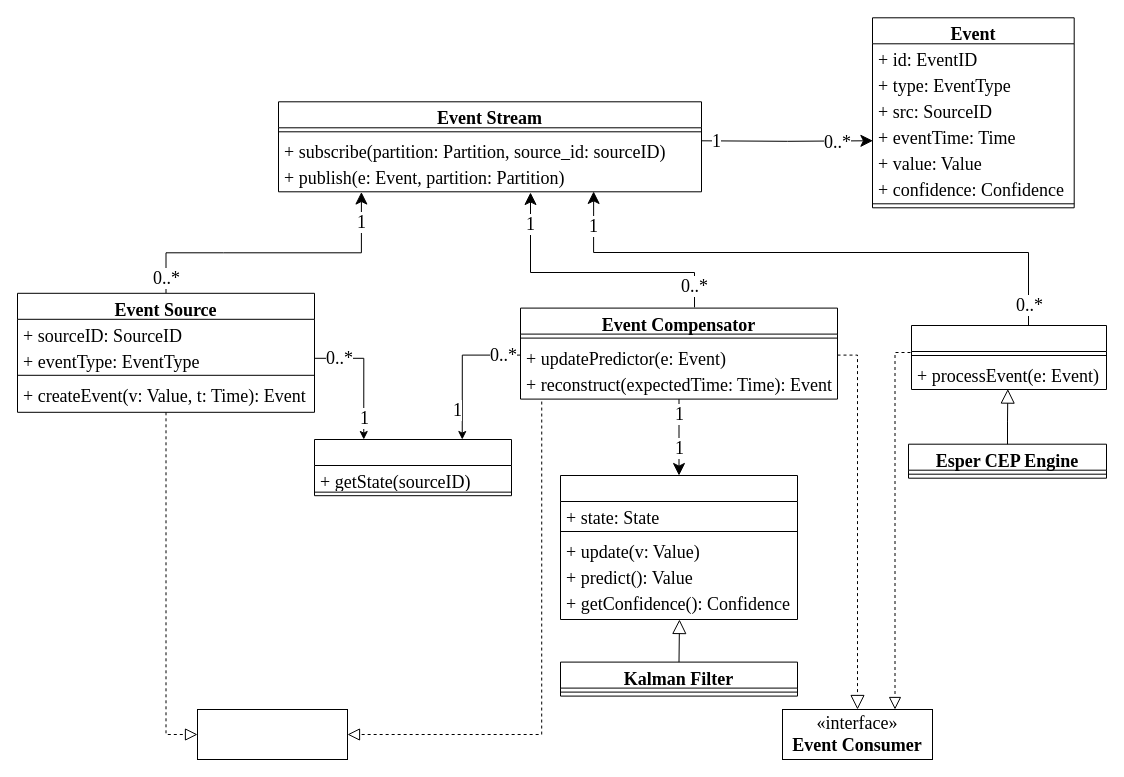
Some shapes in this 1124 by 777 pixel diagram are drawn without their labels. Here are the shapes that lost their labels. From the top down, the box of each, then its label:
(910, 324, 1106, 390): Event Processor
(314, 438, 512, 496): Lifecycle Manager
(560, 474, 798, 620): Predictor
(196, 708, 348, 760): «interface» Event Generator
